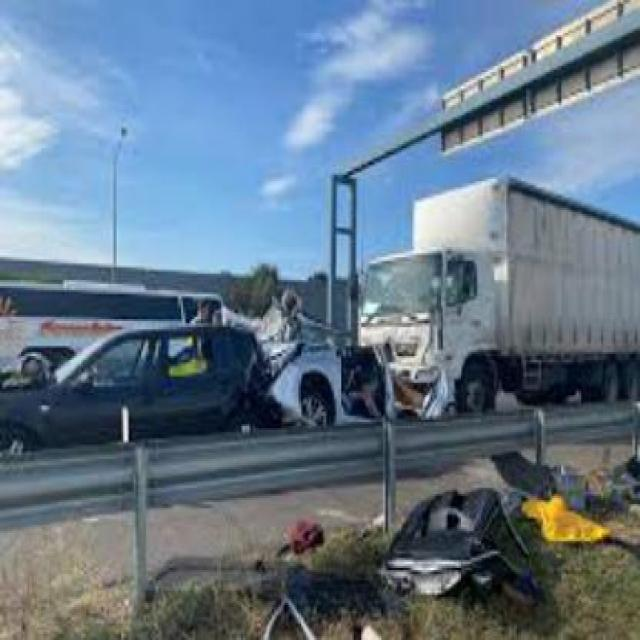accident: (282, 156, 638, 432), (2, 282, 360, 463)
